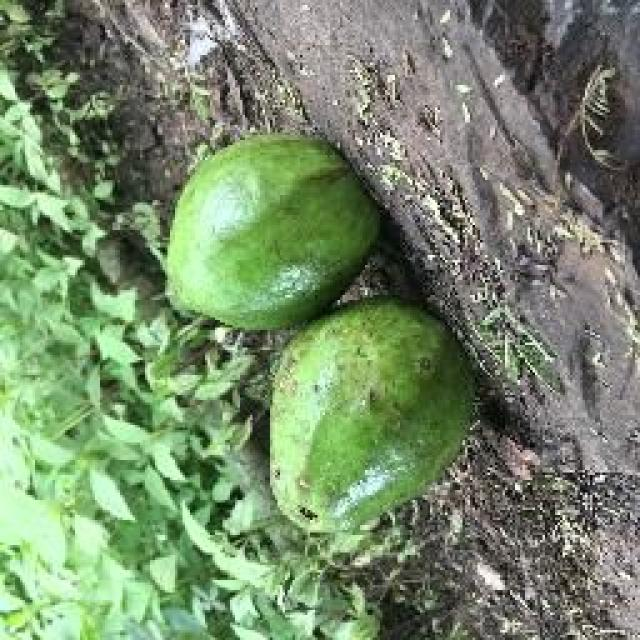Good_Guava: (270, 298, 478, 555), (162, 135, 382, 335)
